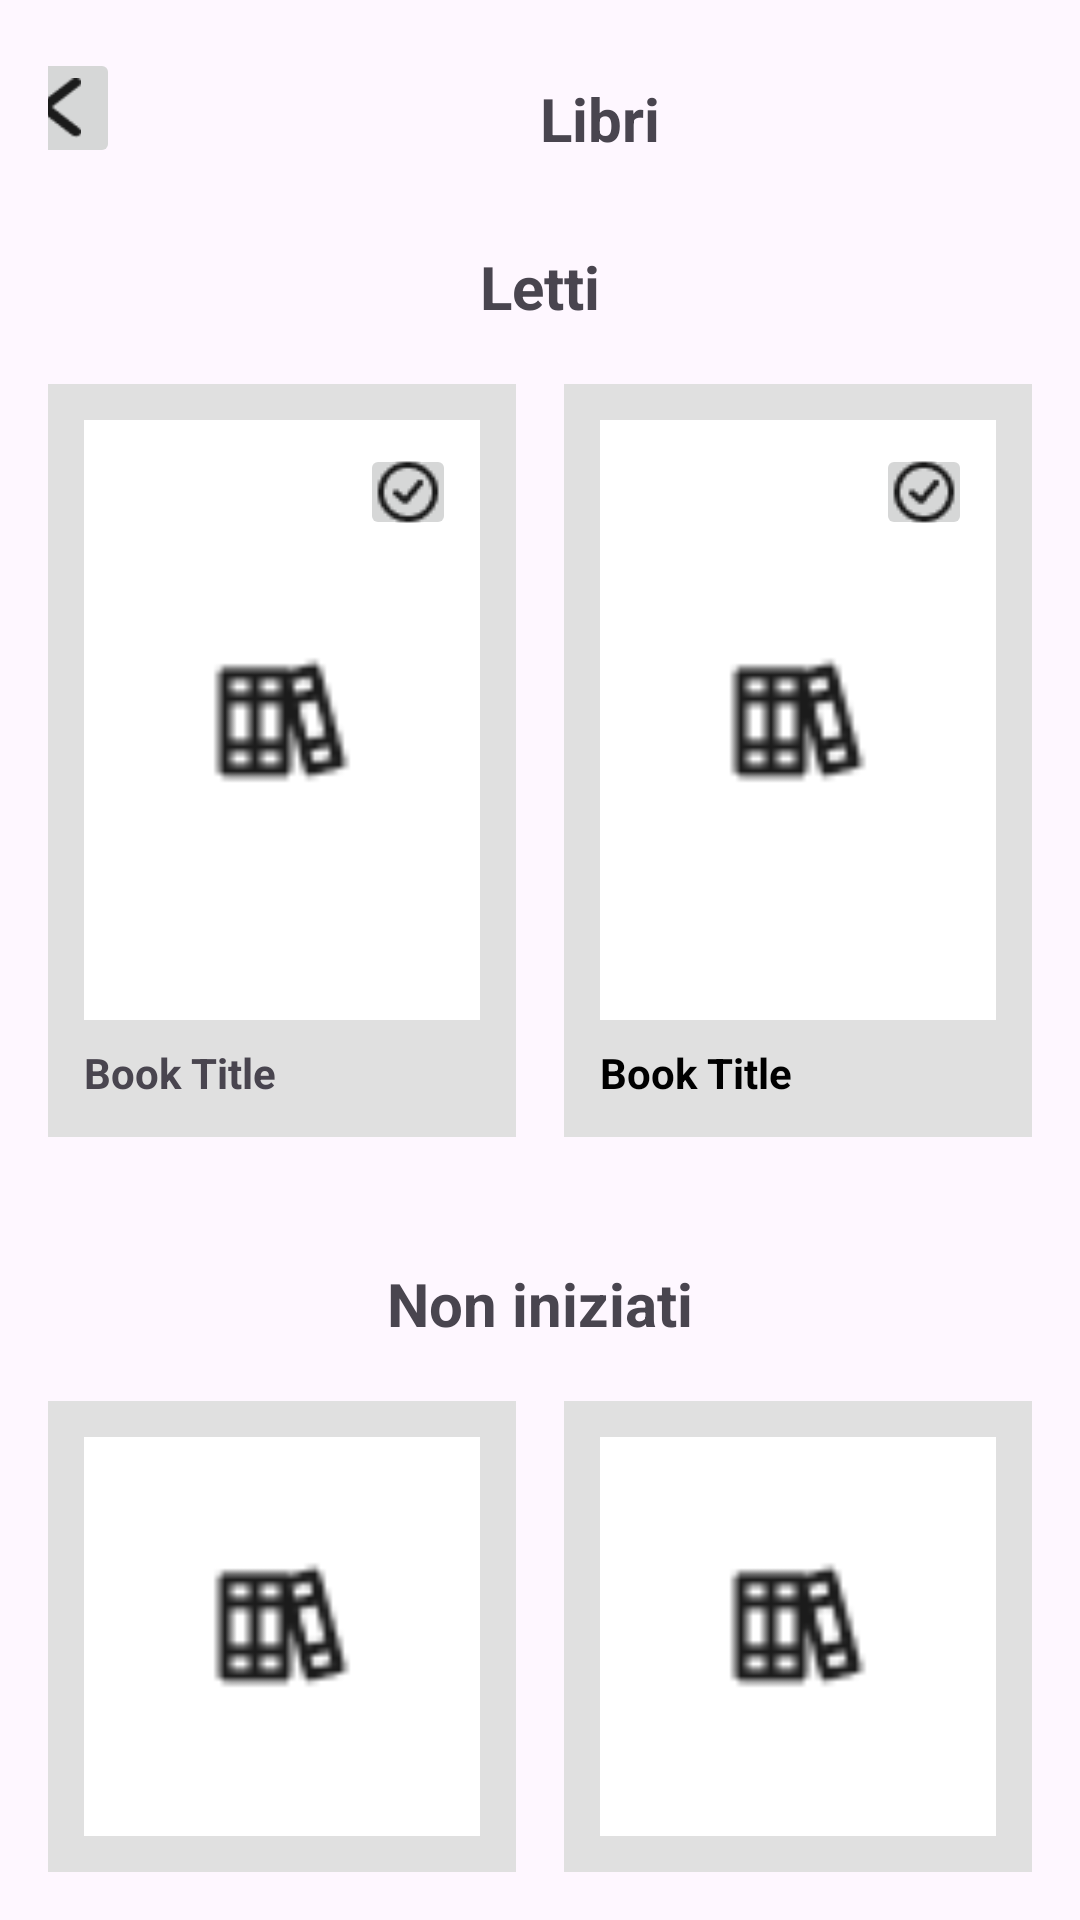

Locate icon controls on the screen. Image size 1080 x 1920, boxes as bbox=[x1, y1, x2, y2].
arrow: bbox=[48, 66, 108, 150]
Book cover: bbox=[214, 659, 349, 781], bbox=[730, 659, 865, 781], bbox=[214, 1564, 349, 1686], bbox=[730, 1564, 865, 1686]
